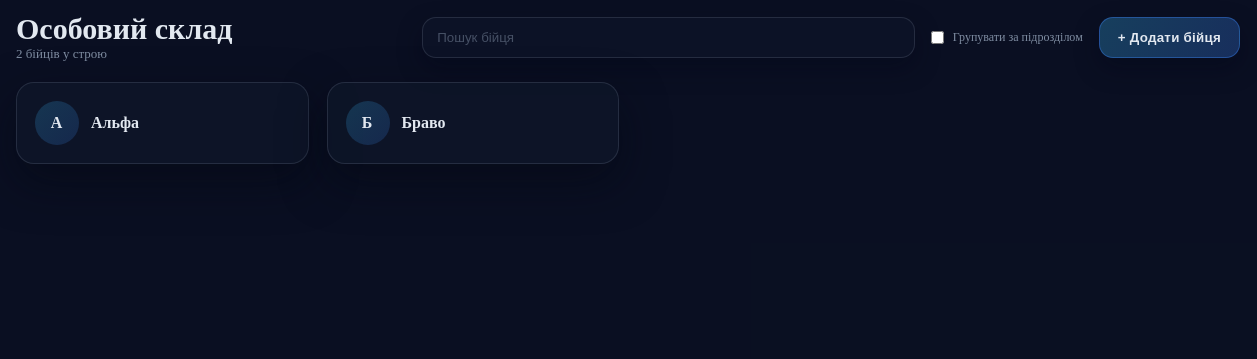
Scenario: Fighters page › filters fighters by search query and shows empty state when no matches
Type "Бра" into the field with placeholder "Пошук бійця".
click(669, 37); type("Бра")  # box [422,16,915,58]
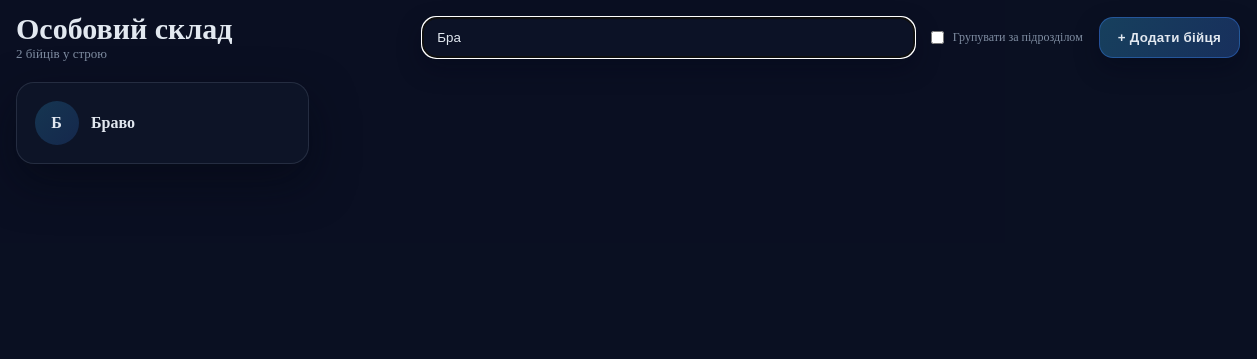
Expected: the text "Браво" is shown, [91,114,135,131]
Expected: the button "Альфа" is gone
Replace the text in the field with placeholder "Пошук бійця" with "zzz" at [669, 37], box [422,16,915,58]
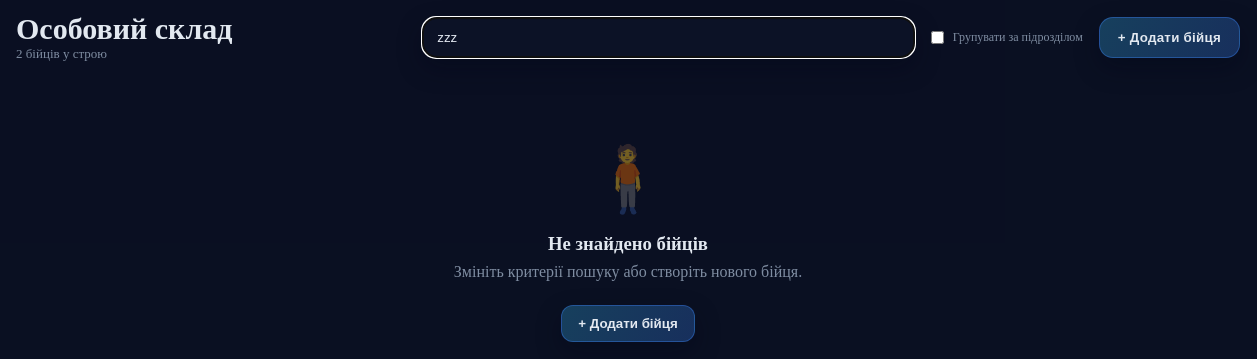
Expected: the heading "Не знайдено бійців" is shown, [548,233,708,255]
